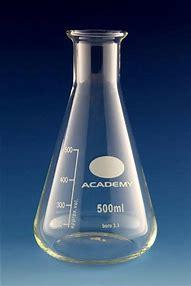Titrarion: (23, 13, 159, 259)
